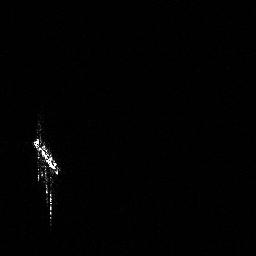ship: (30, 133, 66, 183)
